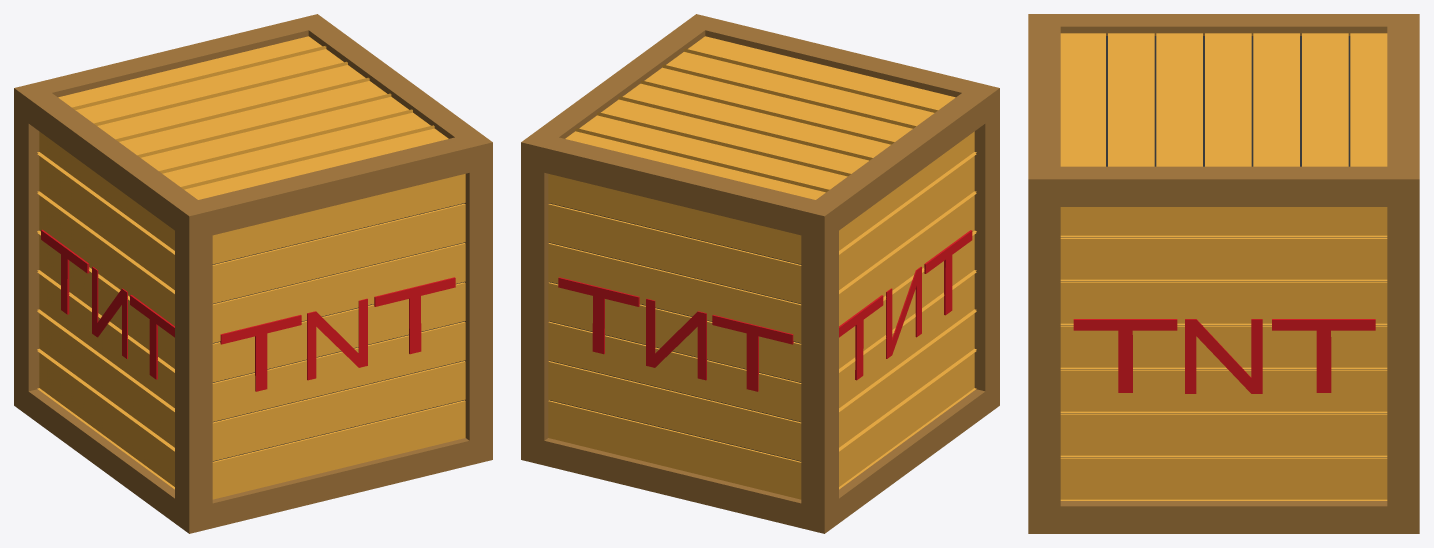
The model's file is TNT.gltf.
The picture shows the model from 3 angles, left to right: view 1: azimuth 30°, elevation 25°; view 2: azimuth 150°, elevation 25°; view 3: azimuth 270°, elevation 25°; orthographic projection. The views are drawn at different scales.
Visible parts, largest first — view 1: Base2, Base, TNT; view 2: Base2, Base, TNT; view 3: Base2, Base, TNT.
Part boxes in pixels (x1,y1,x2,y2): Base2: (37, 36, 465, 499); Base: (14, 14, 492, 533); TNT: (41, 229, 455, 391); Base2: (548, 36, 976, 499); Base: (521, 14, 999, 533); TNT: (558, 230, 972, 391); Base2: (1060, 33, 1387, 500); Base: (1028, 14, 1419, 533); TNT: (1073, 319, 1375, 393).
Size of the model in its own units: 2 by 2 by 2.
